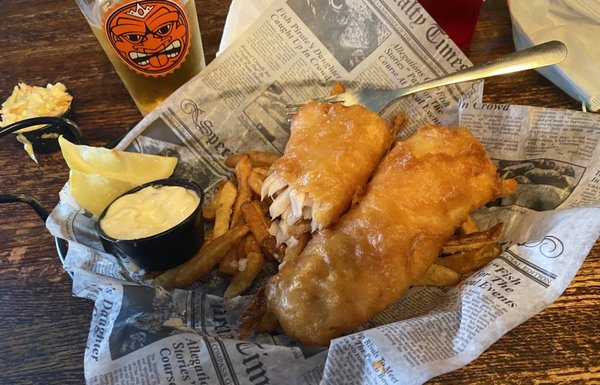pizza: (74, 0, 208, 118)
